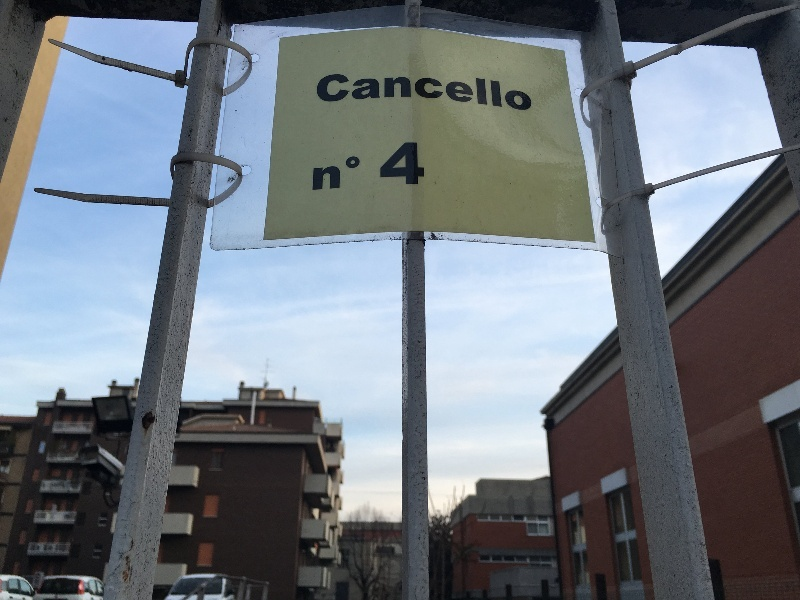text: (385, 141, 400, 194), (401, 141, 416, 194), (321, 73, 336, 113), (337, 73, 352, 113), (353, 73, 368, 113), (369, 73, 384, 113), (385, 73, 400, 113), (401, 73, 416, 113), (417, 73, 432, 113), (433, 73, 448, 113), (449, 73, 464, 113), (465, 73, 480, 113), (481, 73, 496, 113), (497, 73, 512, 113), (513, 73, 528, 113), (321, 155, 336, 193), (337, 155, 352, 193), (417, 141, 427, 194), (353, 155, 364, 193), (314, 73, 320, 113), (314, 155, 320, 193), (380, 141, 384, 194), (529, 73, 534, 113)
